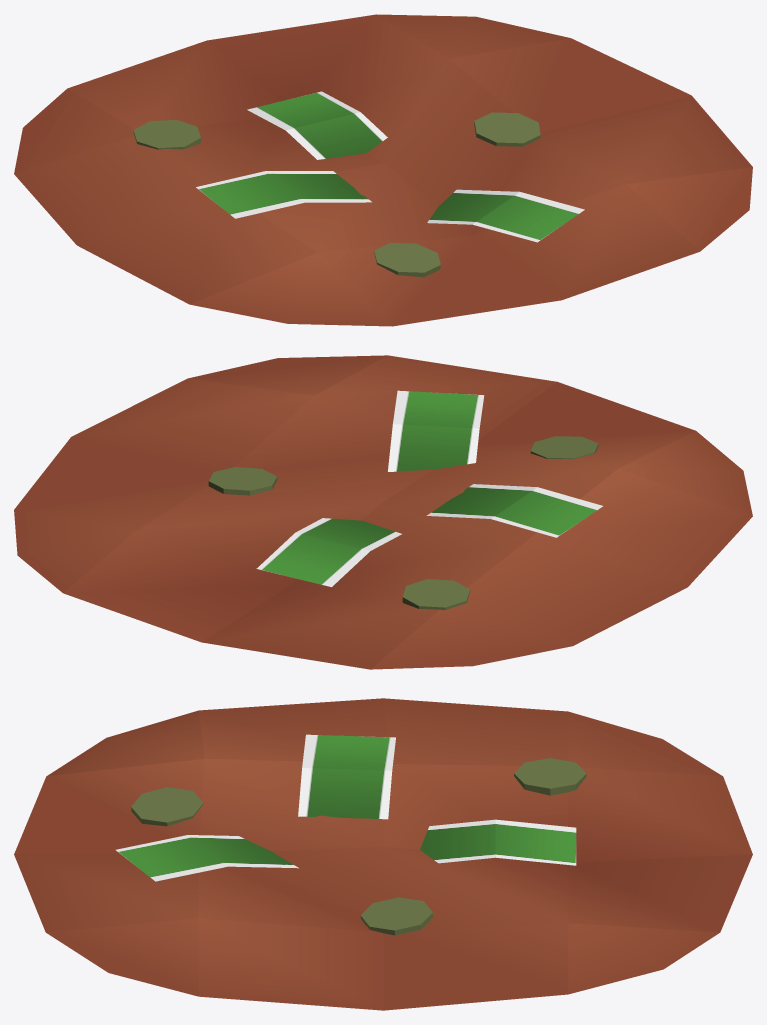
Rendered from PlateFood_02.glb.
3 renders of one model, top to bottom at view 1: azimuth 30°, elevation 25°; view 2: azimuth 150°, elevation 25°; view 3: azimuth 270°, elevation 25°, orthographic. The views are drawn at different scales.
Visible parts, largest first — view 1: PlateFood_02_LOD0; view 2: PlateFood_02_LOD0; view 3: PlateFood_02_LOD0.
Part boxes in pixels (left/top/right/bottom): PlateFood_02_LOD0: left=14, top=14, right=752, bottom=326; PlateFood_02_LOD0: left=14, top=355, right=752, bottom=669; PlateFood_02_LOD0: left=14, top=698, right=752, bottom=1010.
Size of what is drawn, in the model's own units: 0.2111 by 0.0109 by 0.2111.
1 material, 1 textured.
